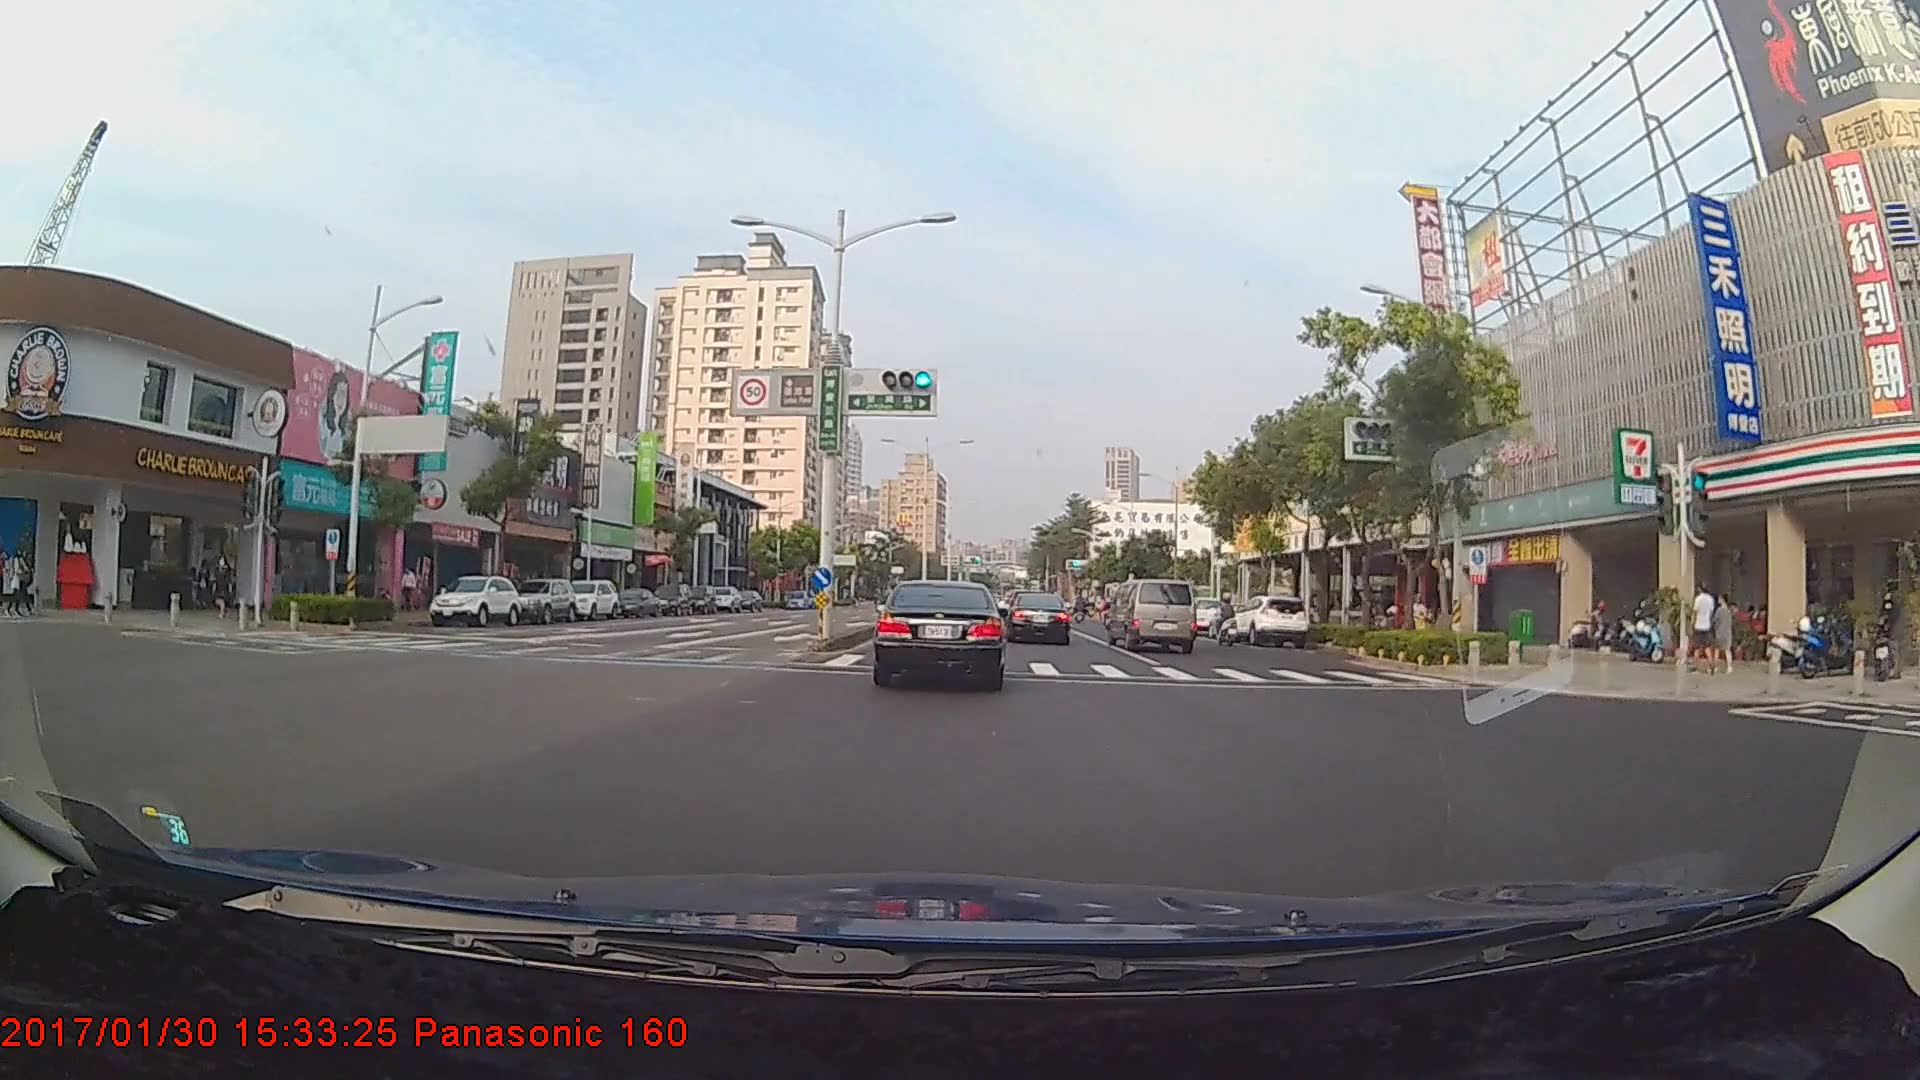pedestrian: (1689, 574, 1719, 677), (1711, 591, 1738, 673), (214, 556, 235, 622), (400, 568, 420, 615)
rider: (1211, 598, 1243, 651)
vehicle: (870, 577, 1003, 689), (1108, 577, 1196, 652), (426, 573, 524, 626), (1225, 593, 1311, 649), (1002, 594, 1072, 646), (508, 575, 576, 621), (561, 579, 621, 622), (649, 581, 694, 615), (615, 586, 661, 616)
